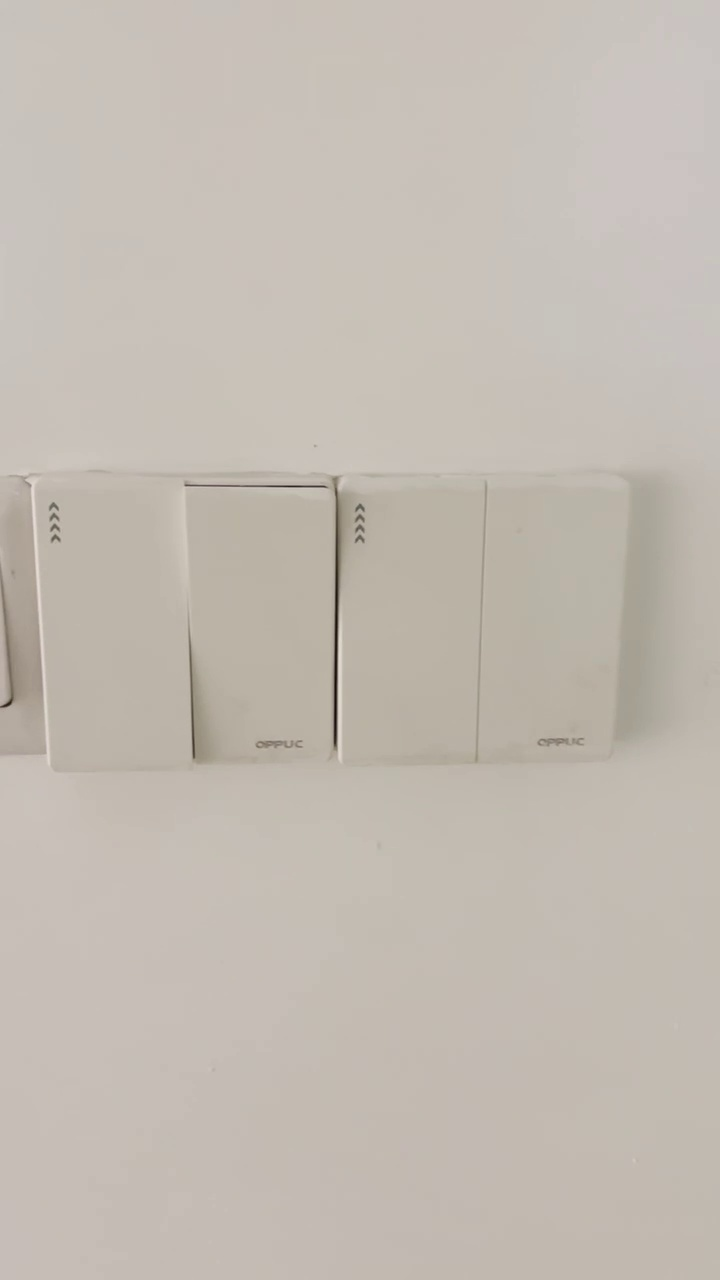button1: (39, 479, 185, 768), (482, 482, 620, 766), (341, 479, 478, 762), (192, 489, 336, 758)
